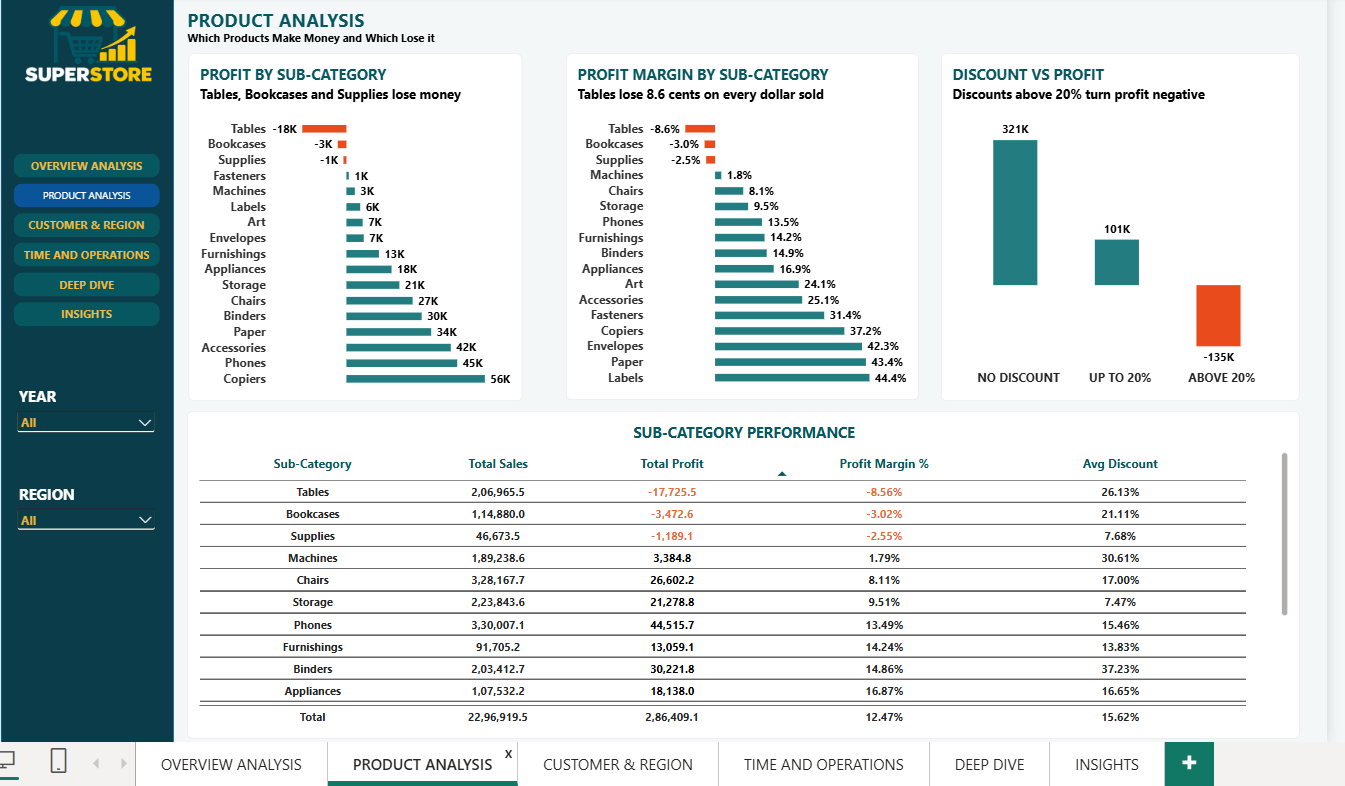

The page's visual inventory and layout, read from the dashboard file:
{"tool":"powerbi","page":{"name":"PRODUCT ANALYSIS","canvas":[1920,1080],"ordinal":1},"visuals":[{"type":"shape","box":[0,0,250,1086],"z":0},{"type":"textbox","box":[270.2,15,395.6,45],"z":1000},{"type":"textbox","box":[270,16,452,62],"z":2000},{"type":"textbox","box":[270,48,396,212],"z":3000},{"type":"clusteredBarChart","title":"PROFIT BY SUB-CATEGORY","fields":{"Category":["superstore.Sub-Category"],"Y":["_MEASURES.Total Profit"]},"box":[271.4,83.2,483.2,503.1],"z":4000},{"type":"clusteredBarChart","title":"PROFIT MARGIN BY SUB-CATEGORY","fields":{"Category":["superstore.Sub-Category"],"Y":["_MEASURES.Profit Margin %"]},"box":[818,83.2,510.3,501.3],"z":5000},{"type":"clusteredColumnChart","title":"DISCOUNT VS PROFIT","fields":{"Category":["superstore.Discound Band"],"Y":["_MEASURES.Total Profit"]},"box":[1360.9,83.2,519.4,503.1],"z":6000},{"type":"tableEx","title":"SUB-CATEGORY PERFORMANCE","fields":{"Values":["superstore.Sub-Category","_MEASURES.Total Sales","_MEASURES.Total Profit","_MEASURES.Profit Margin %","Avg(superstore.Discount)"]},"box":[269.6,600.8,1610.6,474.1],"z":7000},{"type":"slicer","fields":{"Values":["Calender.year"]},"box":[18.5,564,210,88],"z":7001},{"type":"slicer","fields":{"Values":["superstore.Region"]},"box":[18.5,706,210.3,79.1],"z":7002},{"type":"pageNavigator","box":[18.5,228.5,212.3,252.8],"z":7003},{"type":"image","box":[0,0,251.1,140],"z":7004}]}

Visuals, with their boxes on the page's 1920x1080 design canvas (x1, y1, x2, y2). These are canvas units, not pixel positions in the 1345x786 screenshot, which may show the page scaled, cropped or inside an application window:
shape: x1=0 y1=0 x2=250 y2=1086
textbox: x1=270 y1=15 x2=666 y2=60
textbox: x1=270 y1=16 x2=722 y2=78
textbox: x1=270 y1=48 x2=666 y2=260
"PROFIT BY SUB-CATEGORY" clusteredBarChart: x1=271 y1=83 x2=755 y2=586
"PROFIT MARGIN BY SUB-CATEGORY" clusteredBarChart: x1=818 y1=83 x2=1328 y2=584
"DISCOUNT VS PROFIT" clusteredColumnChart: x1=1361 y1=83 x2=1880 y2=586
"SUB-CATEGORY PERFORMANCE" tableEx: x1=270 y1=601 x2=1880 y2=1075
slicer - Calender.year: x1=18 y1=564 x2=228 y2=652
slicer - superstore.Region: x1=18 y1=706 x2=229 y2=785
pageNavigator: x1=18 y1=228 x2=231 y2=481
image: x1=0 y1=0 x2=251 y2=140
